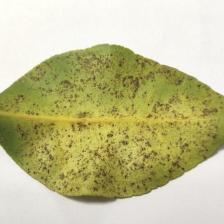canker: (44, 82, 169, 182)
